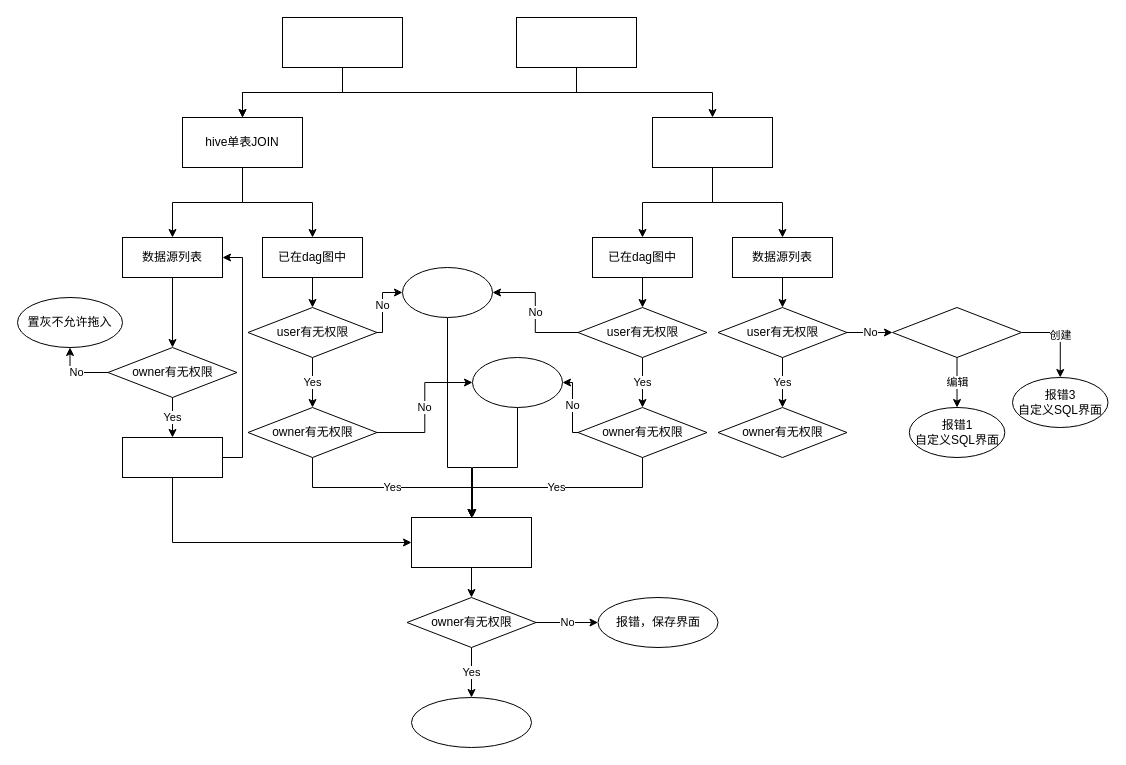
The diagram is 1126 pixels wide and 765 high, and some of its shapes have lost their labels. The centre of each missing label's shape, as x and y in pixels:
"hive自定义SQL" goes at (712,142).
"保存成功 创建/修改数据集任务开始" goes at (471,722).
"保存数据集" goes at (471,542).
"创建数据集" goes at (342,42).
"创建还是编辑数据集" goes at (957,332).
"报错1 dag图感叹号" goes at (447,292).
"报错2 dag图感叹号" goes at (517,382).
"继续拖入数据源" goes at (172,457).
"编辑数据集" goes at (576,42).
